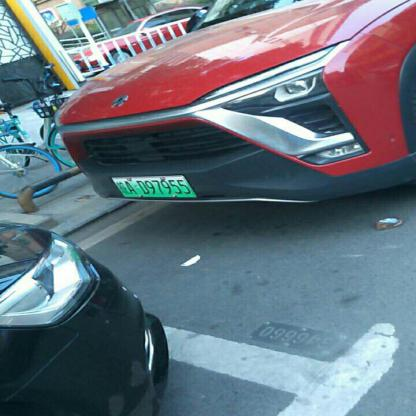lp: (112, 176, 197, 198)
